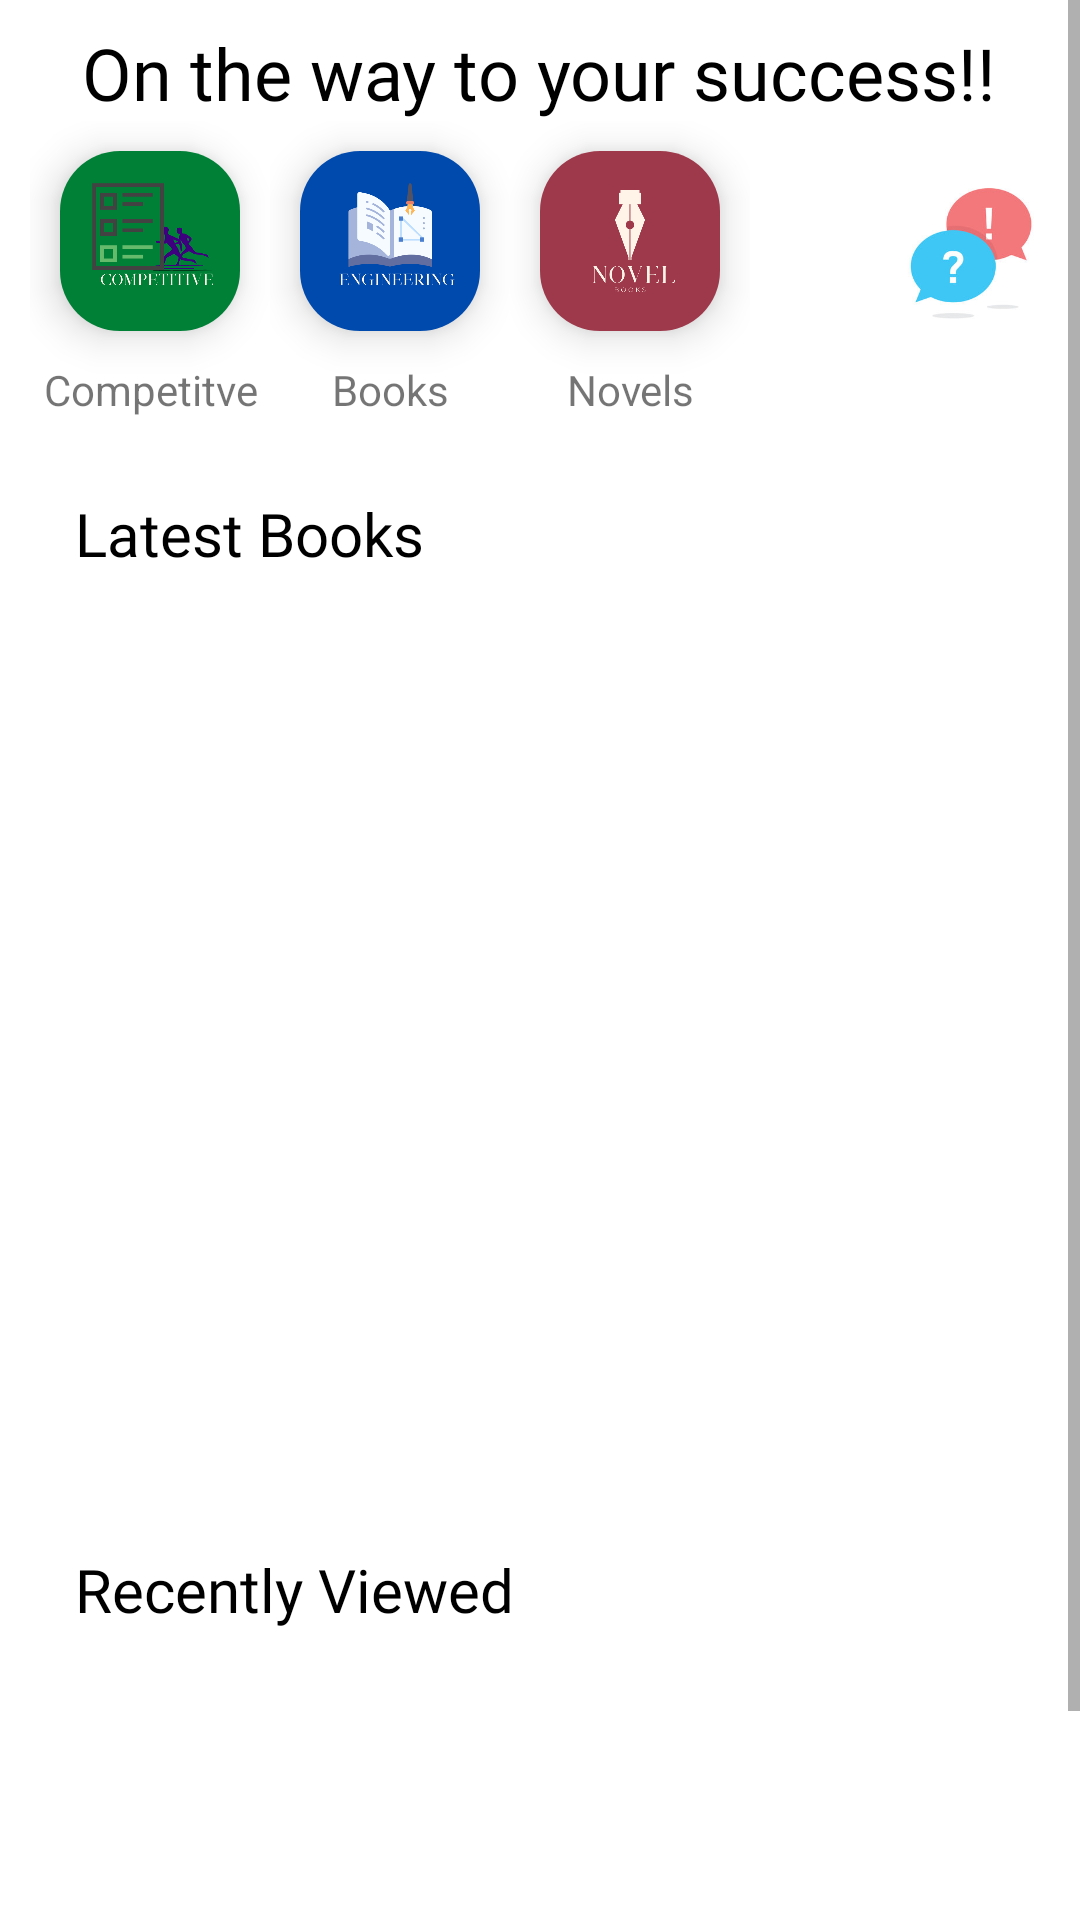

Where icons sit on this 1080 × 1920 app screen, as box=[x1, y1, x2, y2]:
chaticon: box=[910, 188, 1032, 318]
